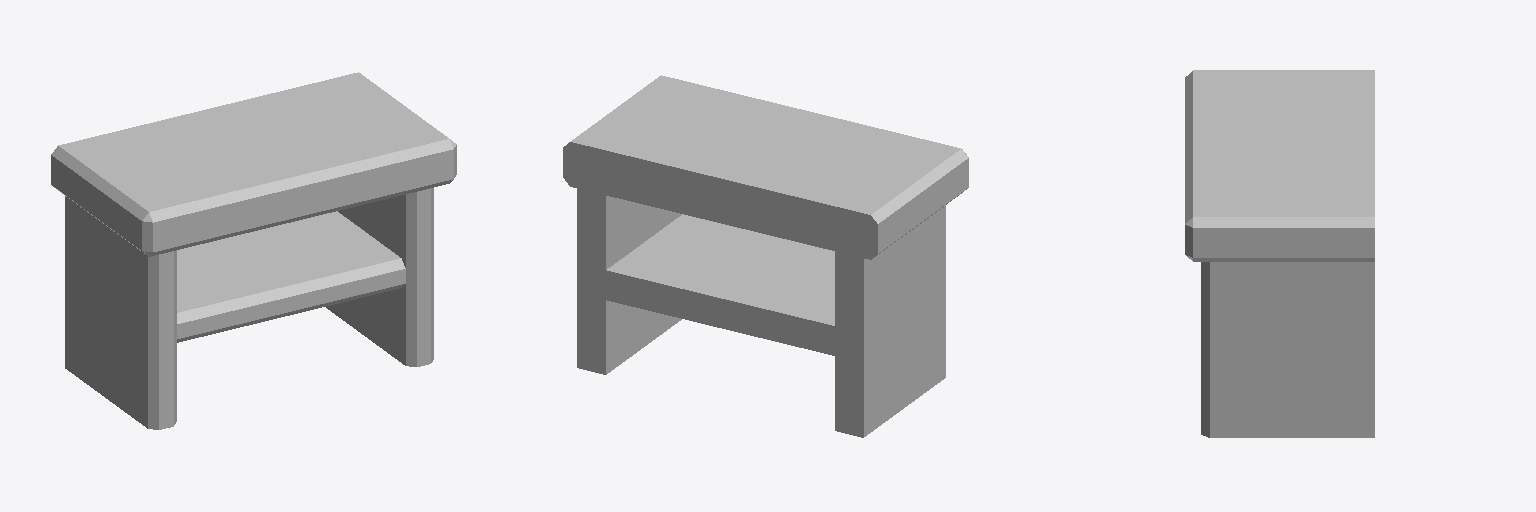
File: countertop_closet_B_large.obj
3 renders of one model, left to right at view 1: azimuth 30°, elevation 25°; view 2: azimuth 150°, elevation 25°; view 3: azimuth 270°, elevation 25°, orthographic.
Parts seen in each view (by area): view 1: countertop_closet_B_large; view 2: countertop_closet_B_large; view 3: countertop_closet_B_large.
Boxes of the visible parts, <box> form: countertop_closet_B_large: <box>51,72,456,429</box>; countertop_closet_B_large: <box>563,75,968,437</box>; countertop_closet_B_large: <box>1185,70,1374,437</box>.
Size of the model in its own units: 2.2 by 1.5 by 1.15.